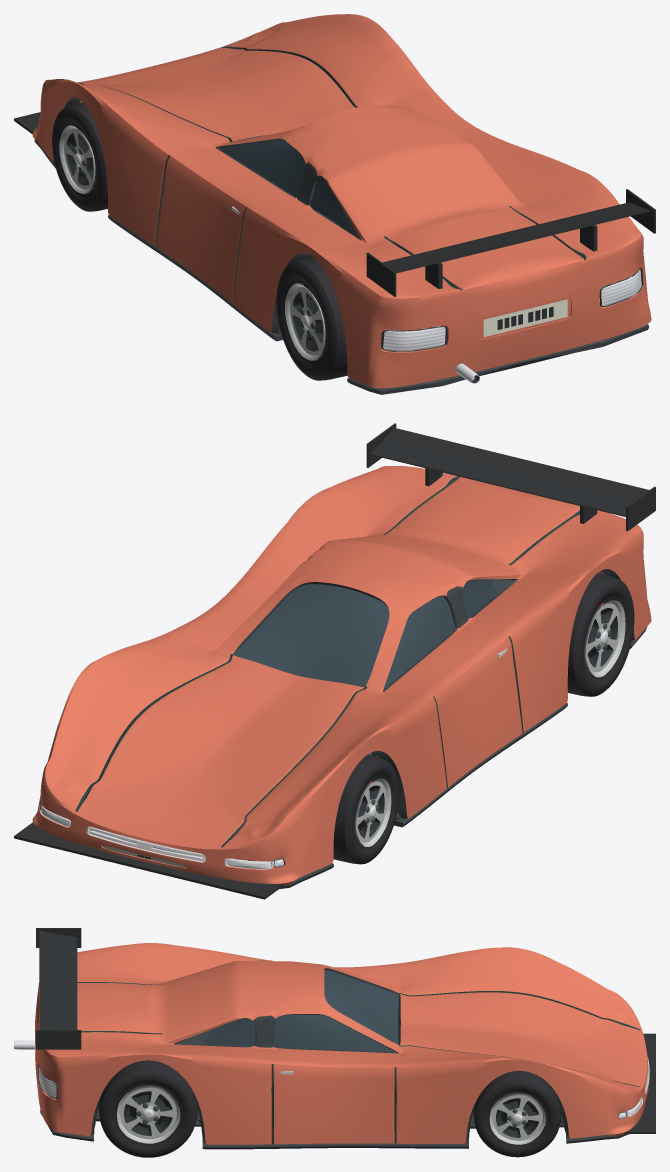
The model's file is forge_canopy_prototype.fbx.
The picture shows the model from 3 angles, top to bottom: view 1: azimuth 30°, elevation 25°; view 2: azimuth 150°, elevation 25°; view 3: azimuth 270°, elevation 25°; orthographic projection. The views are drawn at different scales.
Visible parts, largest first — view 1: Body, Wheel_RL_Mesh, Wheel_FL_Mesh; view 2: Body, Wheel_RL_Mesh, Wheel_FL_Mesh; view 3: Body, Wheel_RR_Mesh, Wheel_FR_Mesh.
Boxes of the visible parts, x1,y1,x2,y2 form: Body: [14, 14, 655, 394]; Wheel_RL_Mesh: [276, 256, 347, 380]; Wheel_FL_Mesh: [52, 102, 107, 211]; Body: [14, 423, 655, 899]; Wheel_RL_Mesh: [567, 573, 634, 696]; Wheel_FL_Mesh: [333, 754, 398, 864]; Body: [14, 928, 655, 1149]; Wheel_RR_Mesh: [98, 1060, 197, 1157]; Wheel_FR_Mesh: [473, 1071, 561, 1157].
Size of the model in its own units: 180 by 85.96 by 410.
